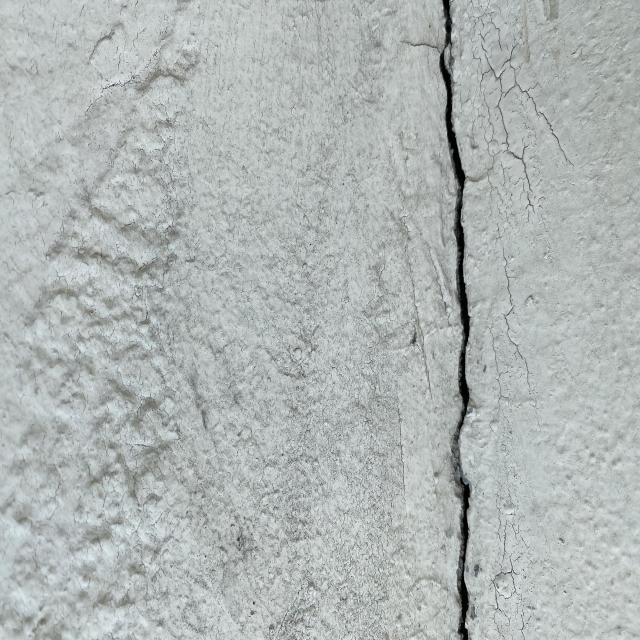SurfaceCrack: (373, 0, 539, 640)
